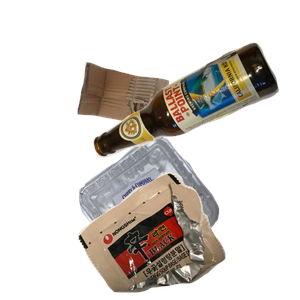cardboard: (75, 59, 237, 176)
glass: (91, 40, 300, 190)
plastic: (77, 133, 289, 300)
trash: (76, 170, 300, 300)
